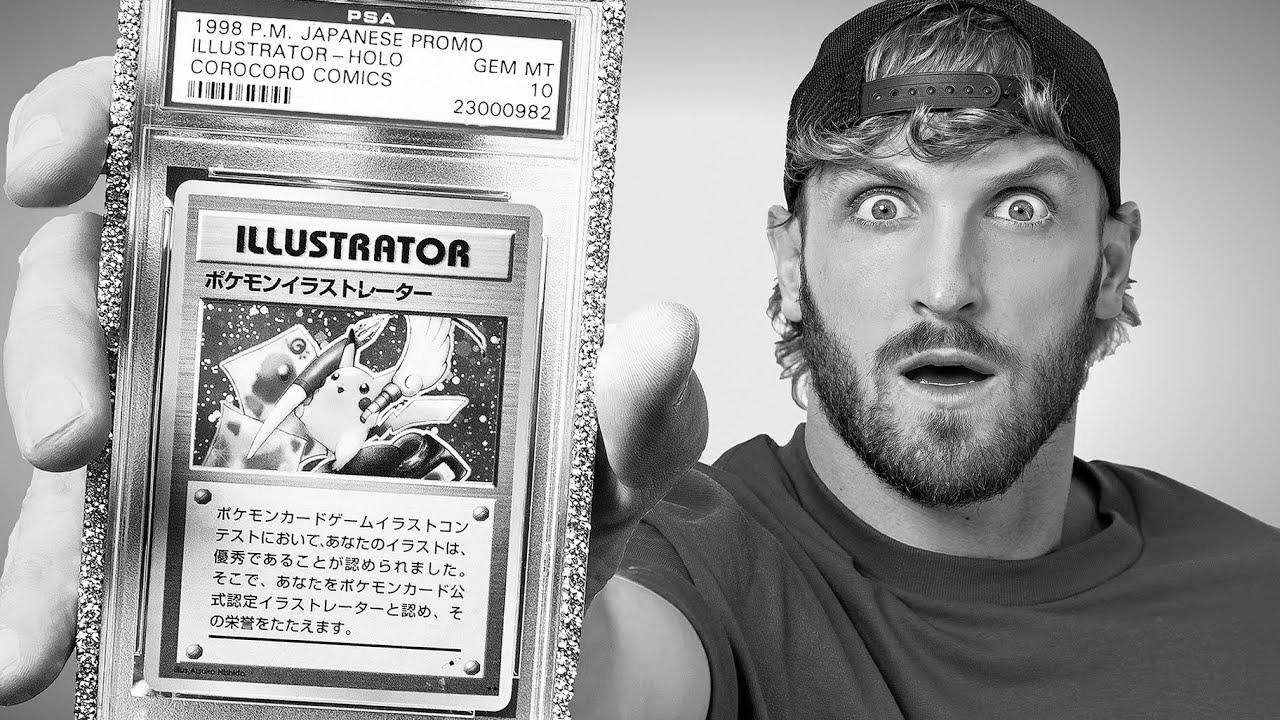card: (143, 179, 544, 713)
